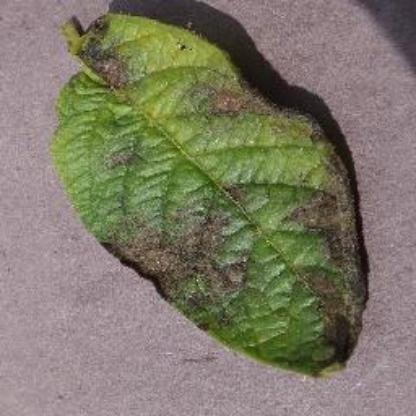Late-Blight: (42, 13, 380, 387)
